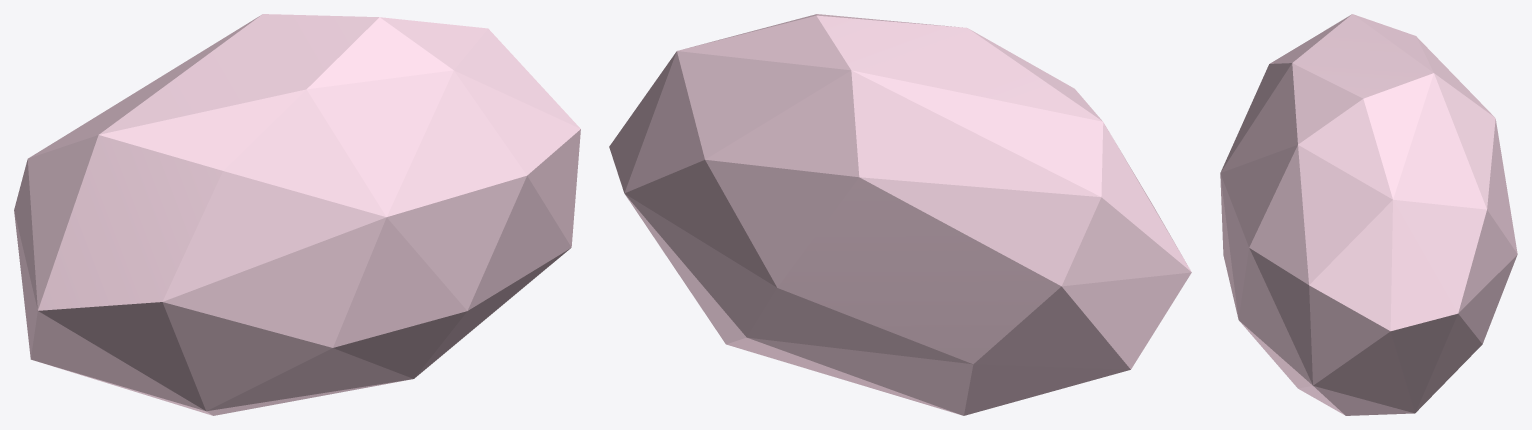
The model's file is cloud_8.fbx.
The picture shows the model from 3 angles, left to right: view 1: azimuth 30°, elevation 25°; view 2: azimuth 150°, elevation 25°; view 3: azimuth 270°, elevation 25°; orthographic projection. The views are drawn at different scales.
Parts seen in each view (by area): view 1: cloud_8; view 2: cloud_8; view 3: cloud_8.
Boxes of the visible parts, x1=… form: cloud_8: x1=14, y1=14, x2=580, y2=415; cloud_8: x1=609, y1=14, x2=1191, y2=415; cloud_8: x1=1220, y1=14, x2=1517, y2=415.
Bounding box in the file's own units: 552 × 334 × 291.
